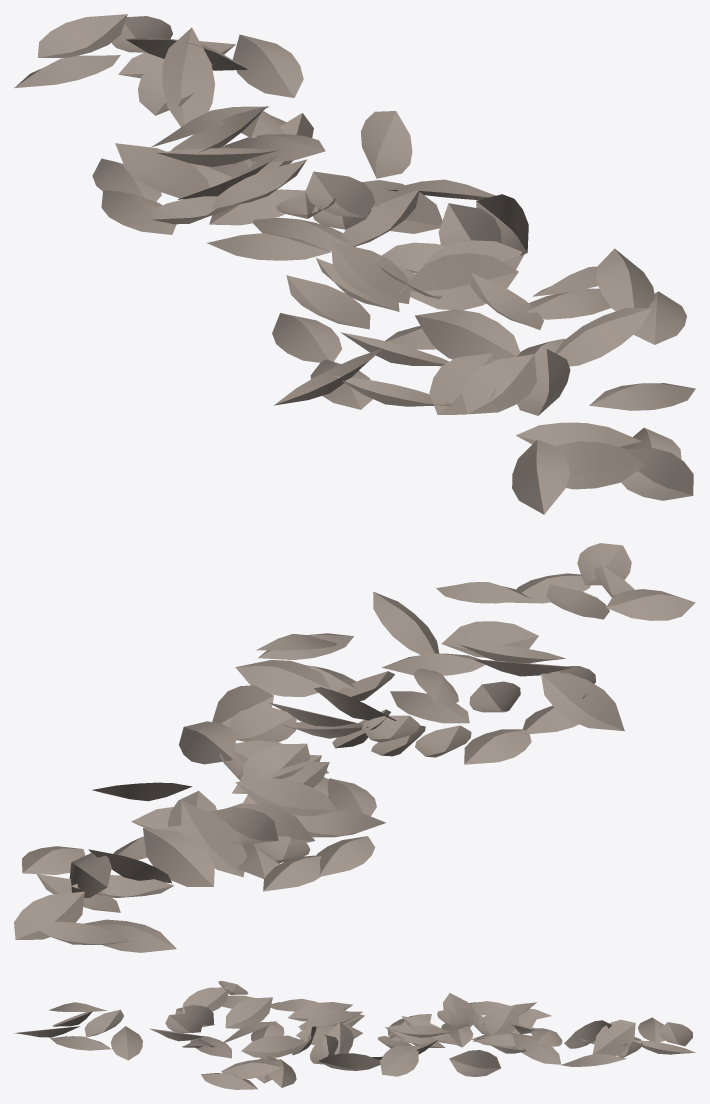
Rendered from Leaf_Pile02.fbx.
3 views of the same model, one above another, from view 1: azimuth 30°, elevation 25°; view 2: azimuth 150°, elevation 25°; view 3: azimuth 270°, elevation 25° (orthographic). The views are drawn at different scales.
Visible parts, largest first — view 1: Leaf_Pile02; view 2: Leaf_Pile02; view 3: Leaf_Pile02.
Part boxes in pixels (bbox=[...]): Leaf_Pile02: bbox=[14, 14, 695, 514]; Leaf_Pile02: bbox=[14, 543, 695, 952]; Leaf_Pile02: bbox=[14, 981, 695, 1089].
Size of the model in its own units: 108 by 15.45 by 292.
